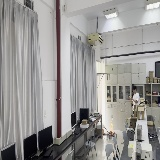fire: (110, 117, 114, 134)
